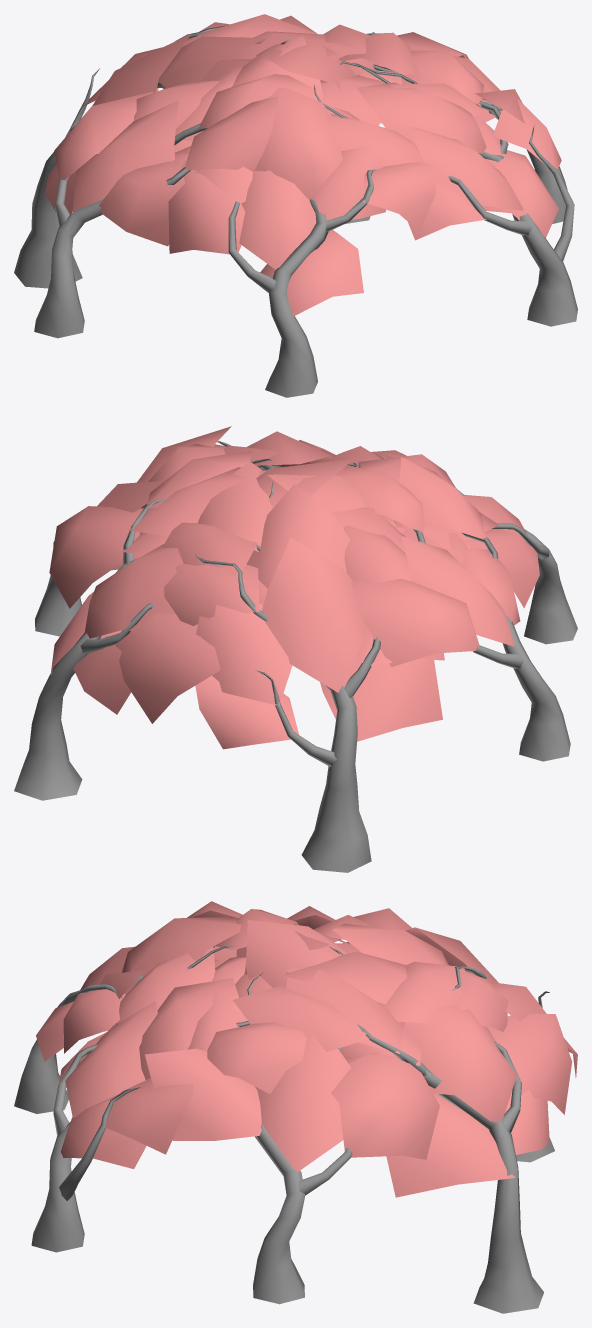
File: PriMT_BossTree01.gltf
3 views of the same model, one above another, from view 1: azimuth 30°, elevation 25°; view 2: azimuth 150°, elevation 25°; view 3: azimuth 270°, elevation 25° (orthographic). The views are drawn at different scales.
Visible parts, largest first — view 1: PriMT_BossTree01; view 2: PriMT_BossTree01; view 3: PriMT_BossTree01.
Part boxes in pixels (<box>): PriMT_BossTree01: <box>14,14,577,397</box>; PriMT_BossTree01: <box>14,426,577,872</box>; PriMT_BossTree01: <box>14,901,577,1313</box>.
Bounding box in the file's own units: 37.17 × 18.28 × 32.49.
